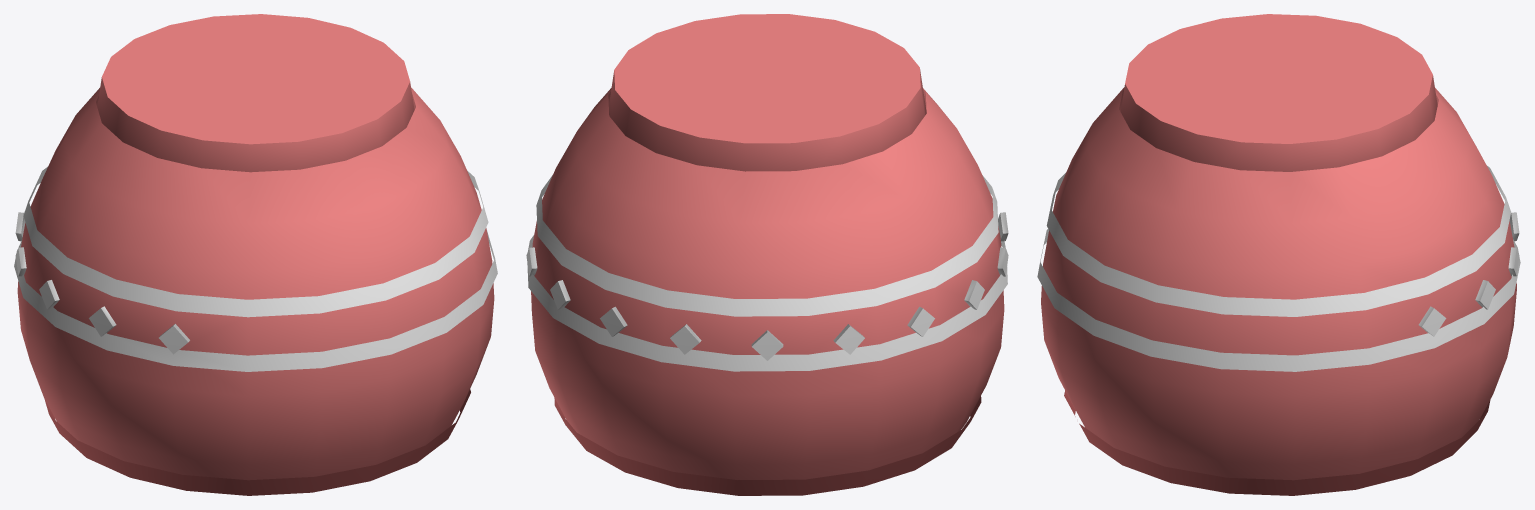
Rendered from RedSweater.fbx.
3 views of the same model, side by side, from view 1: azimuth 30°, elevation 25°; view 2: azimuth 150°, elevation 25°; view 3: azimuth 270°, elevation 25° (orthographic).
Visible parts, largest first — view 1: RedSweater; view 2: RedSweater; view 3: RedSweater.
Boxes of the visible parts, x1=… form: RedSweater: x1=14, y1=14, x2=497, y2=495; RedSweater: x1=526, y1=14, x2=1008, y2=495; RedSweater: x1=1037, y1=14, x2=1520, y2=495.
Bounding box in the file's own units: 1.72 × 1.3 × 1.72.
